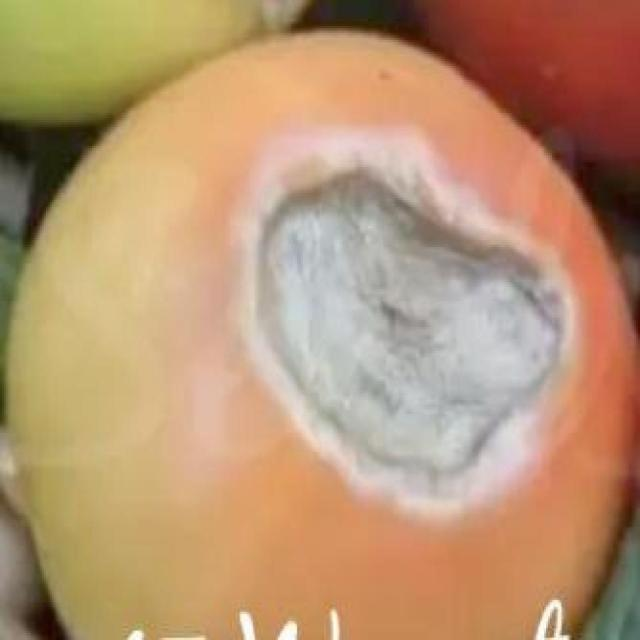Blossom End Rot Fruit: (151, 93, 388, 357)
